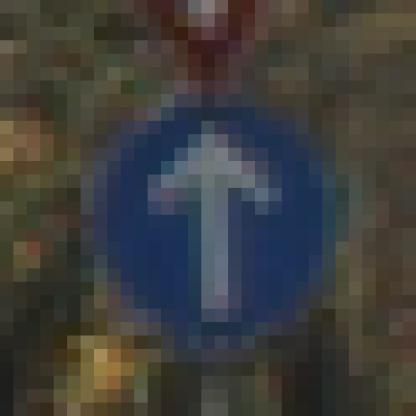AheadOnly: (68, 68, 350, 350)
